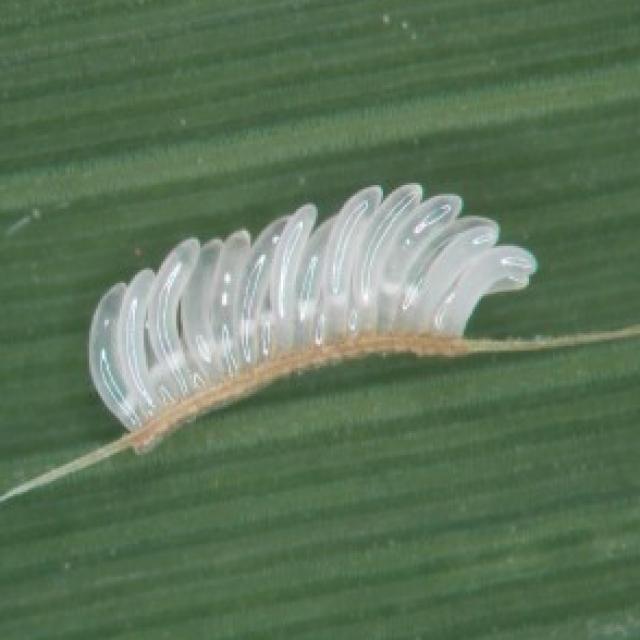brown plant hopper: (379, 198, 459, 316), (440, 246, 538, 335), (359, 185, 420, 318), (150, 239, 200, 398), (424, 220, 499, 324), (113, 270, 157, 418), (272, 205, 318, 346), (91, 285, 135, 427), (329, 187, 381, 298), (211, 231, 250, 364), (300, 216, 340, 344), (187, 242, 224, 372), (248, 224, 279, 364)
